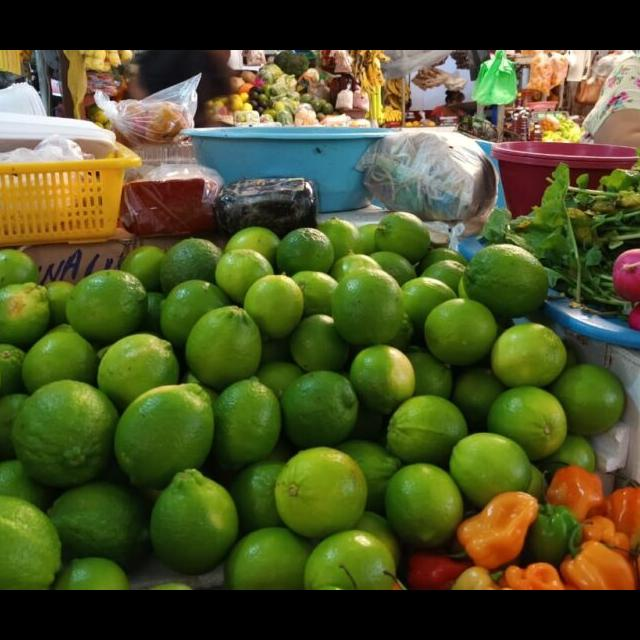lime: (115, 382, 214, 497), (16, 382, 117, 490), (152, 470, 240, 575), (274, 449, 367, 541), (449, 434, 544, 522), (161, 280, 239, 372), (385, 465, 464, 555), (99, 334, 181, 415), (188, 307, 264, 394), (211, 378, 282, 471), (67, 271, 147, 353), (552, 359, 632, 439), (468, 246, 552, 322), (487, 388, 570, 463), (387, 396, 472, 469), (283, 372, 360, 452), (336, 270, 409, 349), (490, 322, 574, 390), (0, 498, 62, 590), (424, 298, 503, 369), (347, 346, 421, 410), (0, 282, 65, 352), (240, 275, 308, 339), (215, 252, 278, 309)
